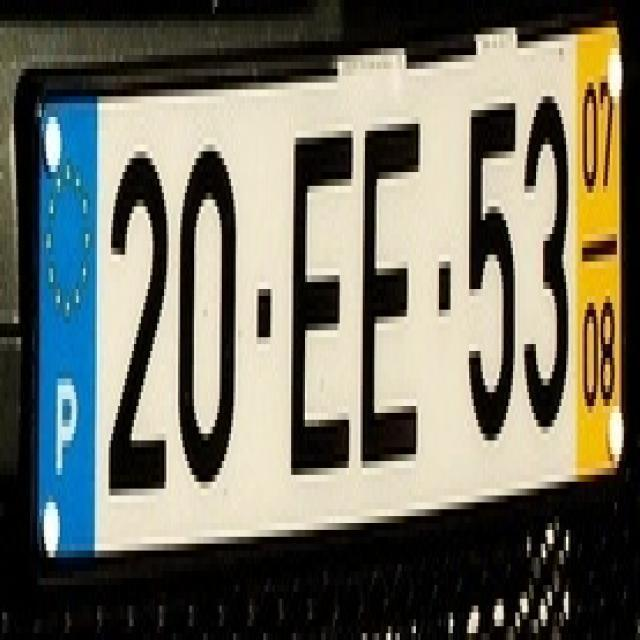LicensePlate: (26, 69, 633, 555)
